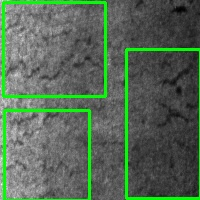crazing: (126, 49, 200, 198), (3, 2, 105, 96), (4, 110, 89, 200)
